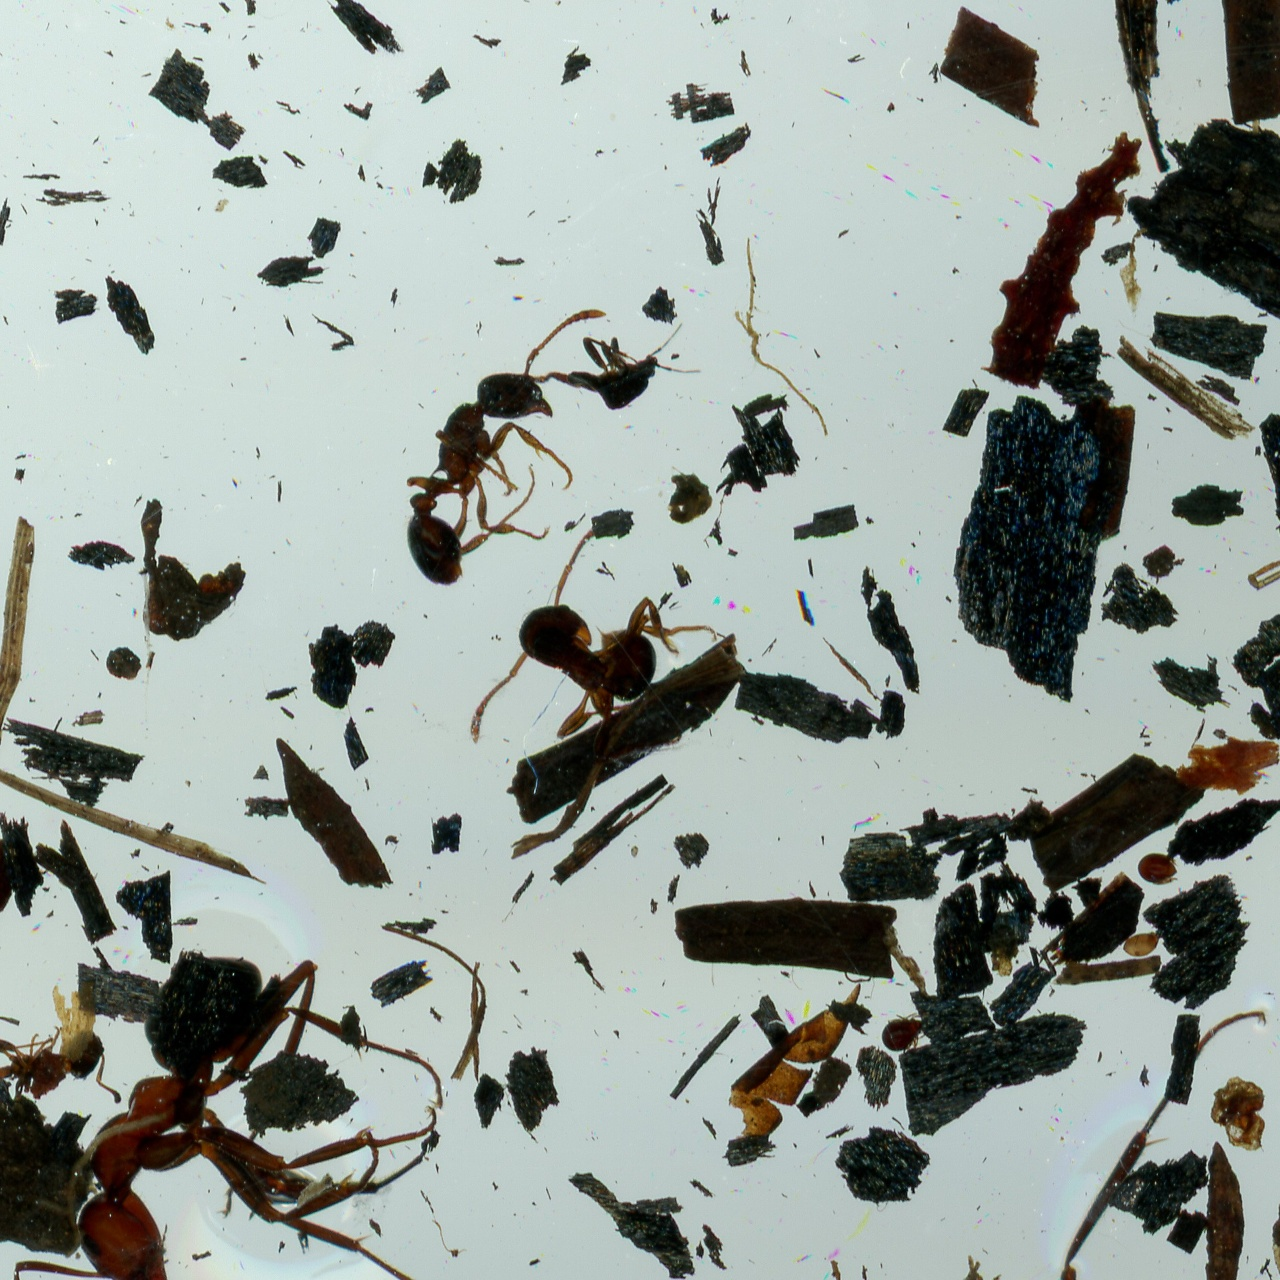arthropod: (2, 948, 470, 1280), (969, 998, 1280, 1280), (399, 292, 618, 601), (461, 529, 737, 768), (567, 319, 703, 413), (0, 1021, 124, 1114), (1247, 449, 1280, 660), (879, 1012, 928, 1056), (1137, 850, 1184, 887)
